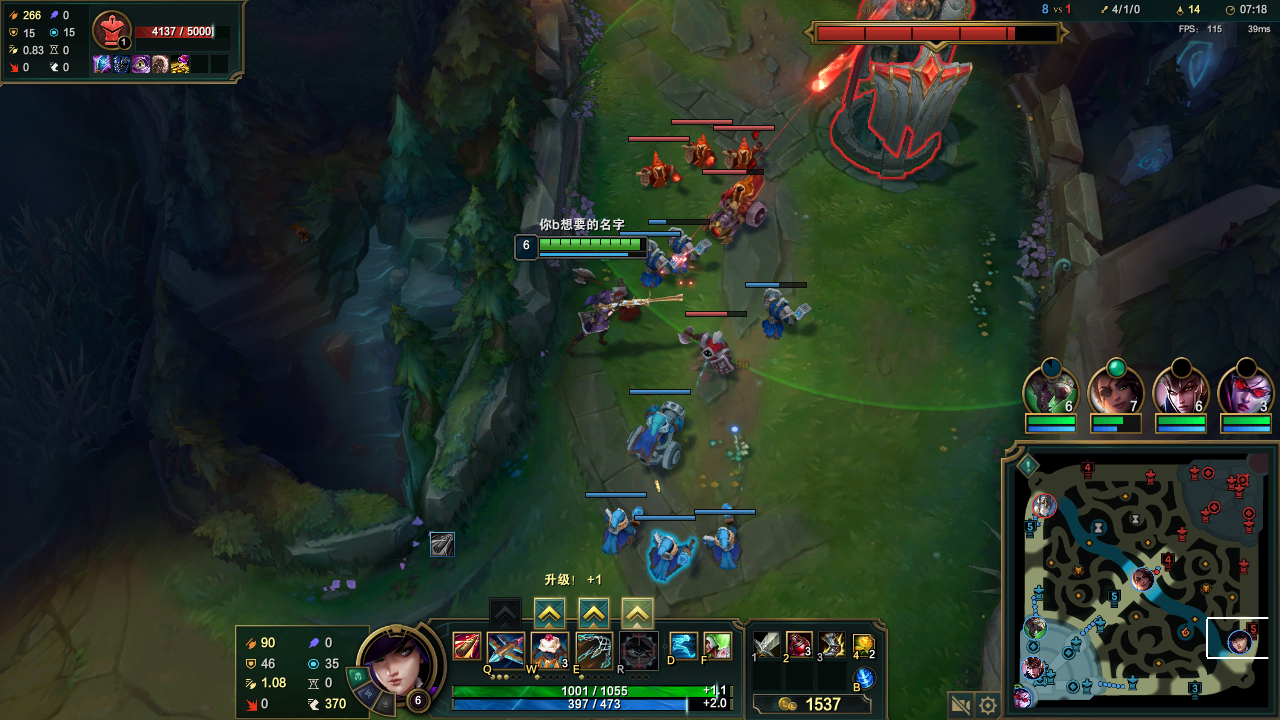DFFYT: (815, 11, 989, 181)
DFXB: (713, 180, 765, 239), (690, 330, 736, 371), (683, 137, 713, 171), (641, 156, 671, 187), (723, 143, 750, 167)
Shenji: (583, 600, 604, 630), (540, 602, 563, 628)
Tuijianshengji: (626, 602, 647, 624)
WFXB: (630, 403, 685, 477), (757, 289, 799, 334), (599, 502, 641, 546), (645, 532, 690, 573), (640, 245, 674, 291), (706, 531, 743, 564), (674, 234, 706, 271)
